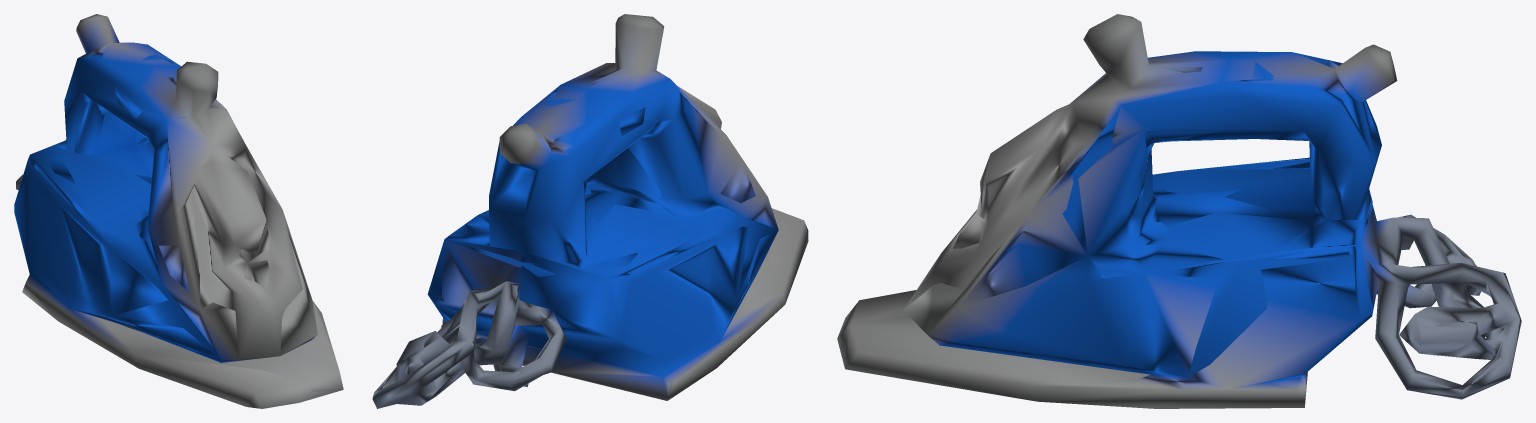
Rendered from gen3d-clothes-iron-lod1.glb.
3 renders of one model, left to right at view 1: azimuth 30°, elevation 25°; view 2: azimuth 150°, elevation 25°; view 3: azimuth 270°, elevation 25°, orthographic. The views are drawn at different scales.
Visible parts, largest first — view 1: part_0; view 2: part_0; view 3: part_0.
Boxes of the visible parts, left/top/right/bottom form: part_0: left=14, top=14, right=343, bottom=408; part_0: left=372, top=14, right=808, bottom=408; part_0: left=837, top=14, right=1521, bottom=408.
Bounding box in the file's own units: 0.8312 × 0.9889 × 1.88.
